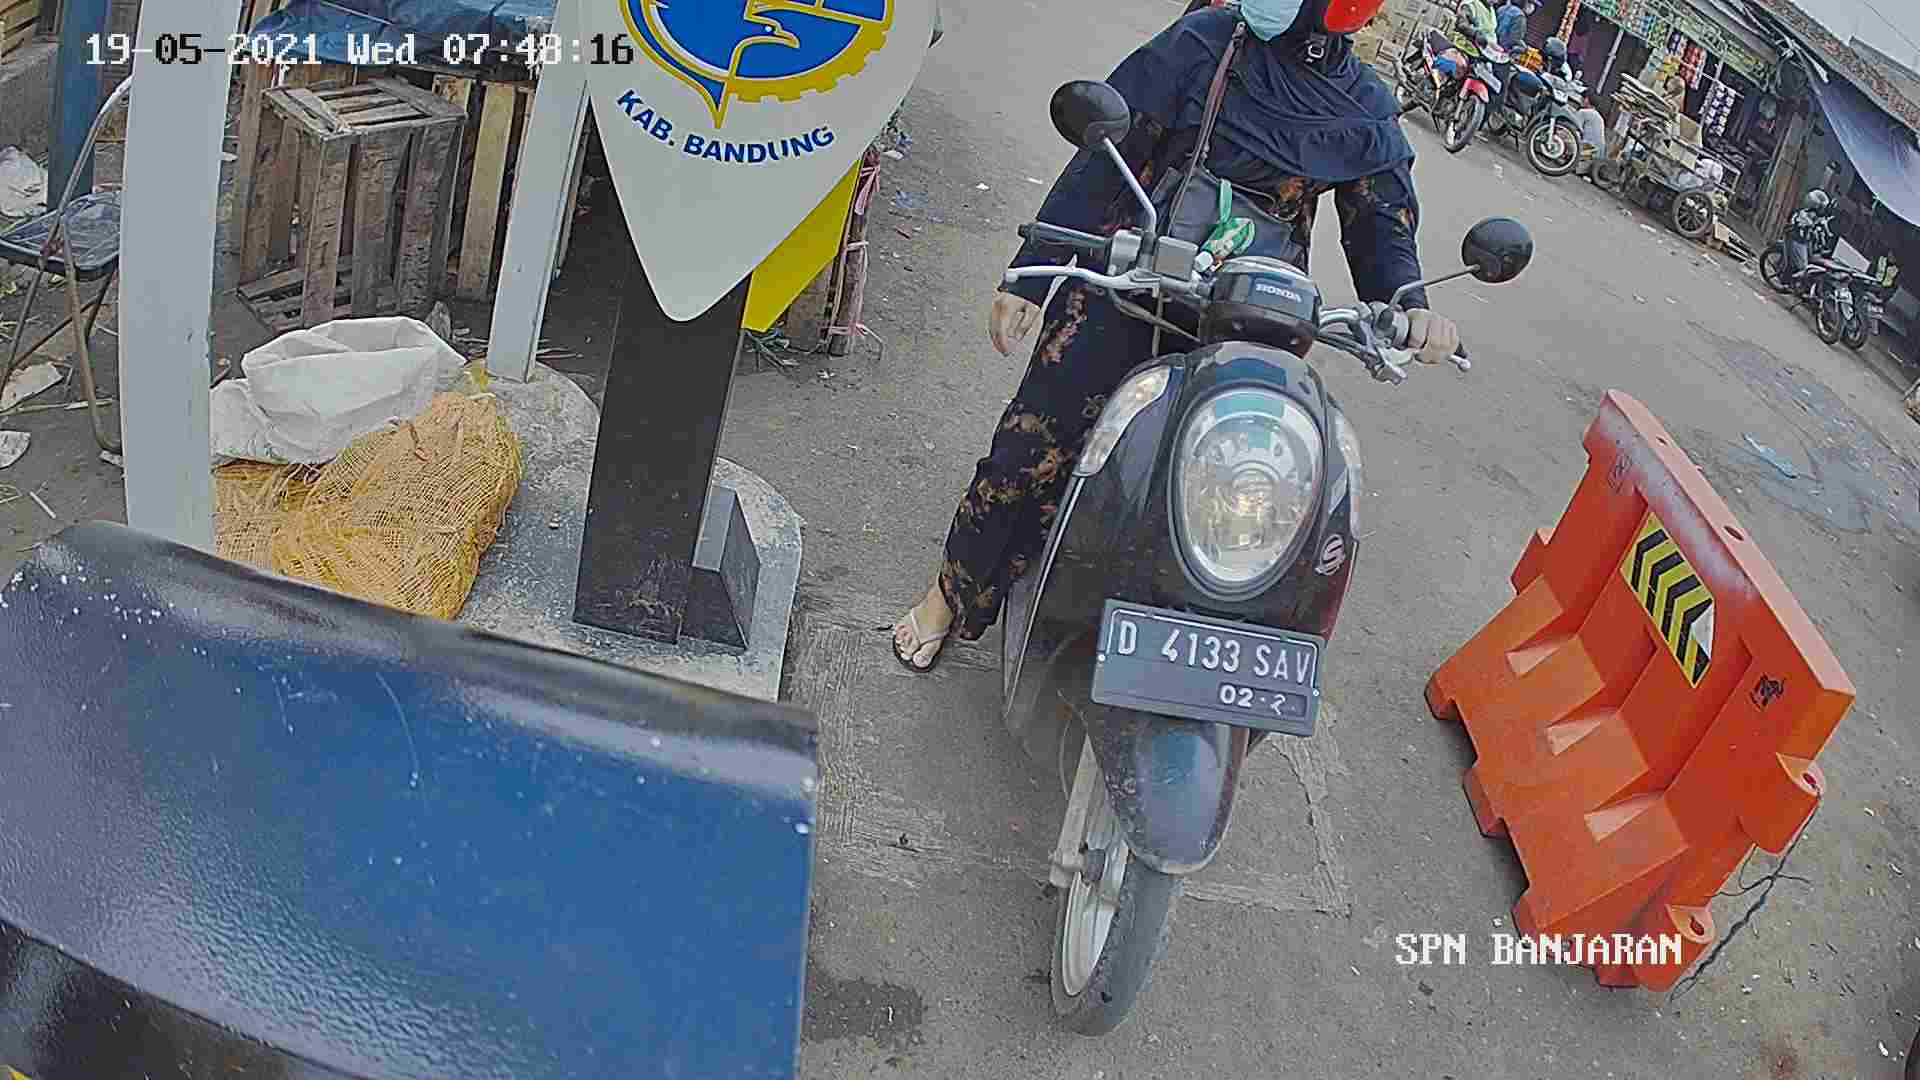motor: (953, 182, 1367, 1047)
